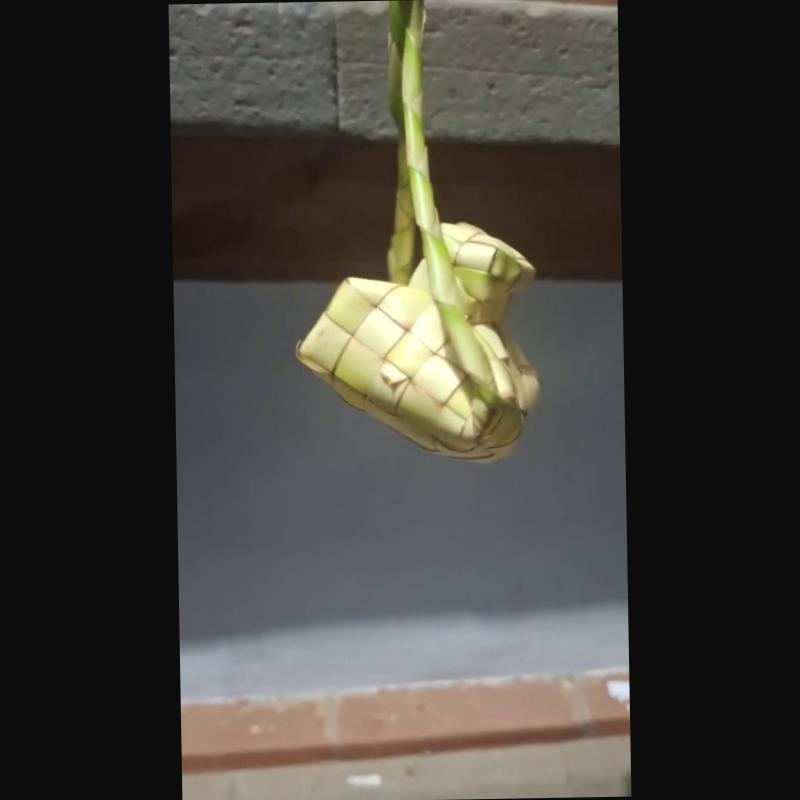Tipat Gong: (297, 0, 538, 467)
